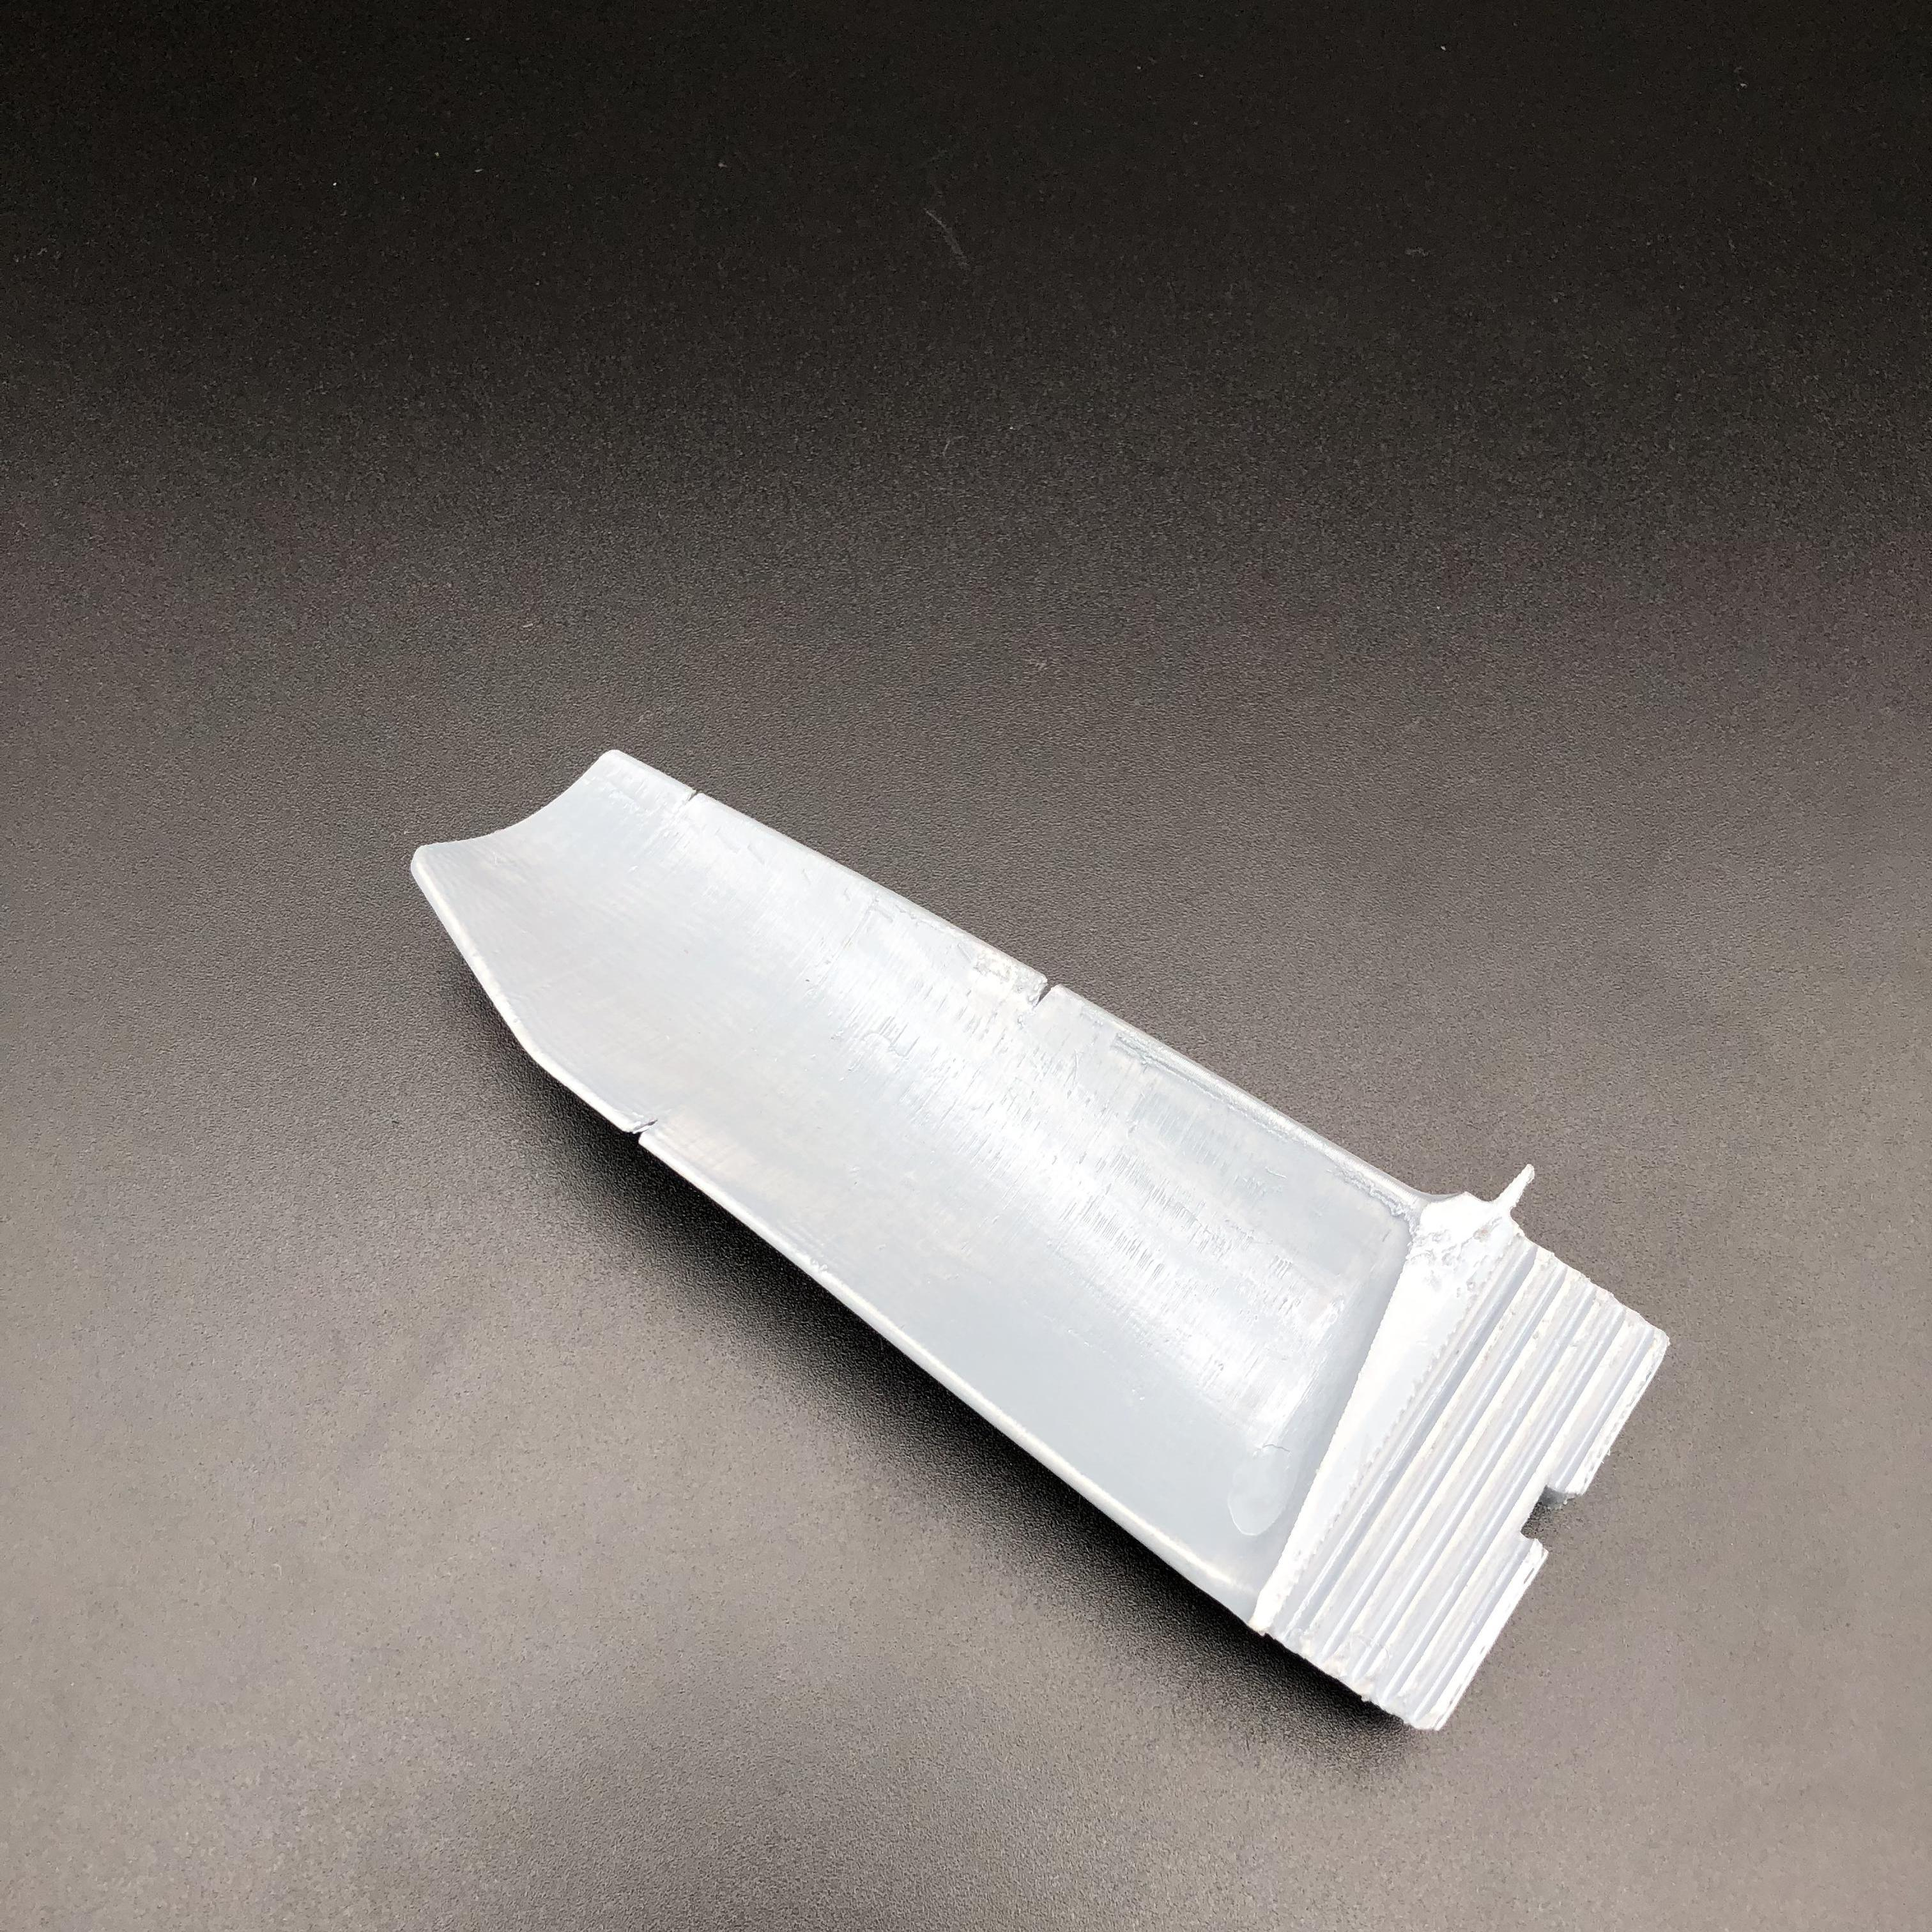groove: (1026, 971, 1067, 1003), (626, 1113, 665, 1145), (674, 784, 708, 798)
